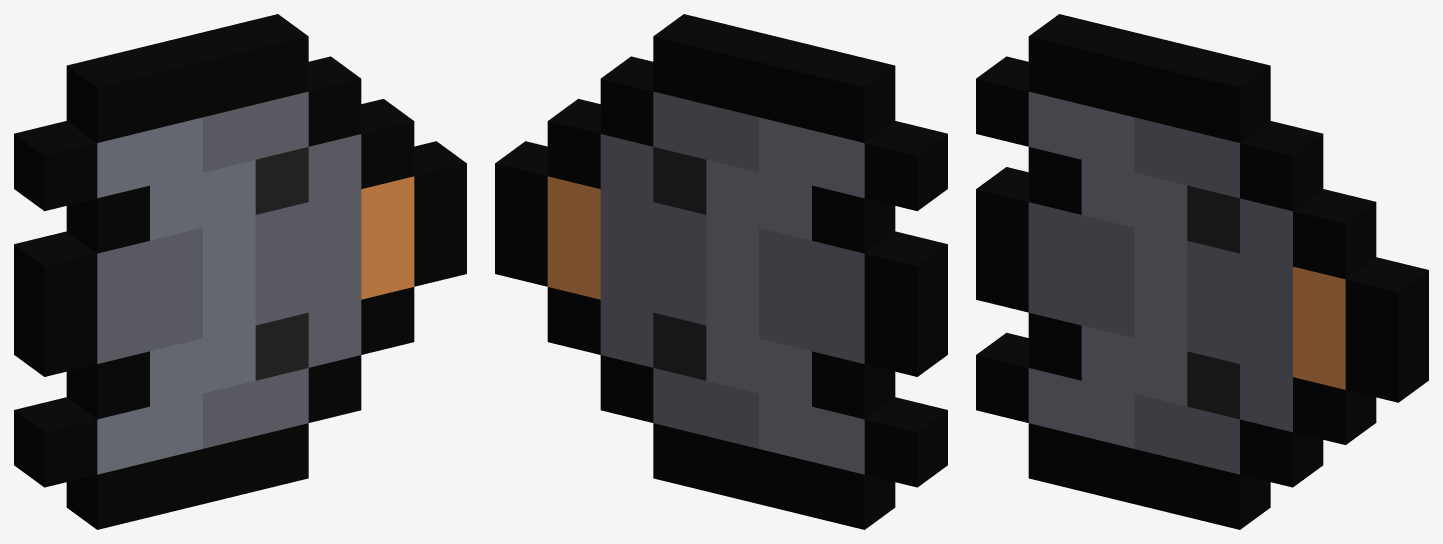
The model's file is Eagle Ray.glb.
3 views of the same model, side by side, from view 1: azimuth 30°, elevation 25°; view 2: azimuth 150°, elevation 25°; view 3: azimuth 330°, elevation 25° (orthographic).
Parts seen in each view (by area): view 1: generated(Clone); view 2: generated(Clone); view 3: generated(Clone).
Boxes of the visible parts, box(x1,y1,x2,y2) form: generated(Clone): box(14, 14, 466, 529); generated(Clone): box(495, 14, 947, 529); generated(Clone): box(976, 14, 1428, 529).
Bounding box in the file's own units: 8 × 8 × 1.
1 material, 1 textured.
